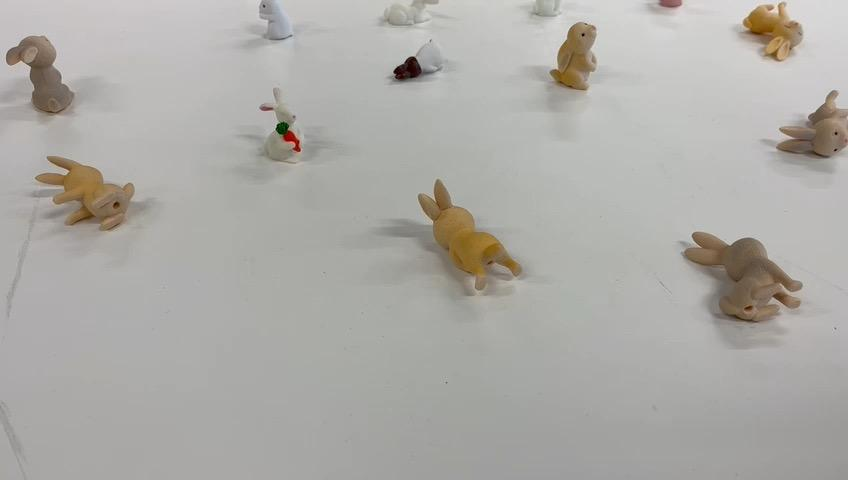pet: (396, 185, 535, 300), (670, 235, 809, 341), (26, 150, 149, 246), (3, 30, 88, 124), (241, 83, 316, 180), (768, 79, 848, 167), (728, 5, 828, 67), (551, 8, 614, 105), (233, 3, 323, 59), (383, 38, 461, 96), (378, 3, 447, 32)
